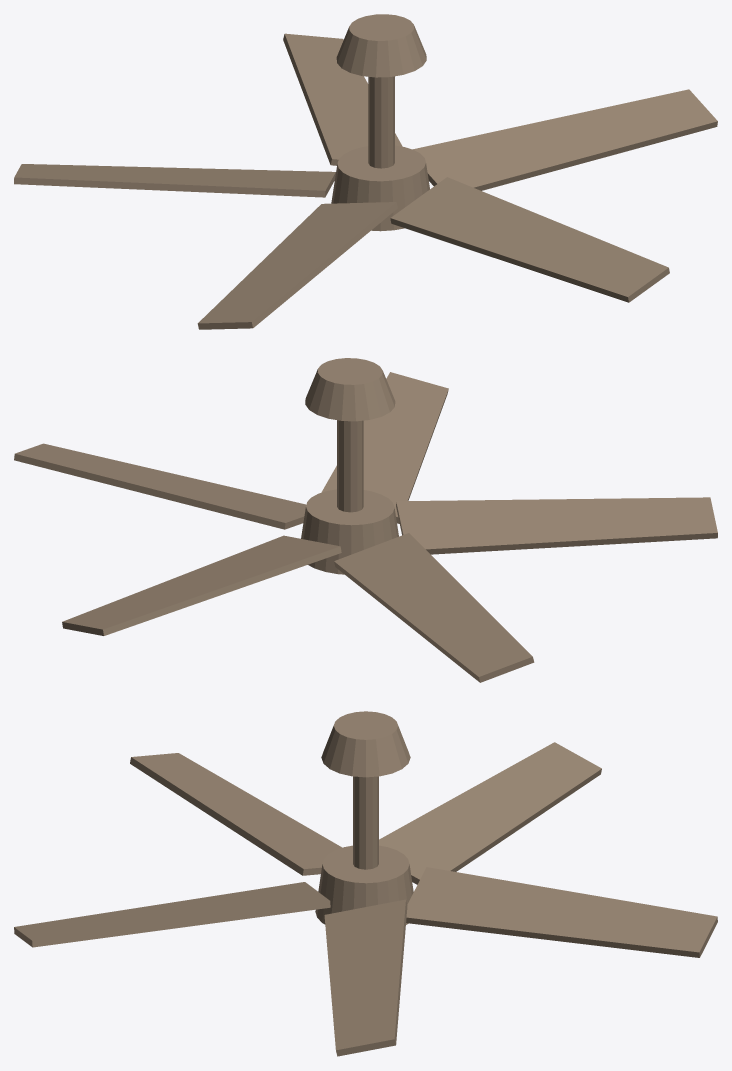
Rendered from ceiling_fan.glb.
The picture shows the model from 3 angles, top to bottom: view 1: azimuth 30°, elevation 25°; view 2: azimuth 150°, elevation 25°; view 3: azimuth 270°, elevation 25°; orthographic projection. The views are drawn at different scales.
Visible parts, largest first — view 1: CeilingFan; view 2: CeilingFan; view 3: CeilingFan.
Boxes of the visible parts, x1,y1,x2,y2 form: CeilingFan: (14, 14, 717, 329); CeilingFan: (14, 358, 717, 682); CeilingFan: (14, 711, 717, 1056).
Size of the model in its own units: 1.2 by 0.35 by 1.2.
